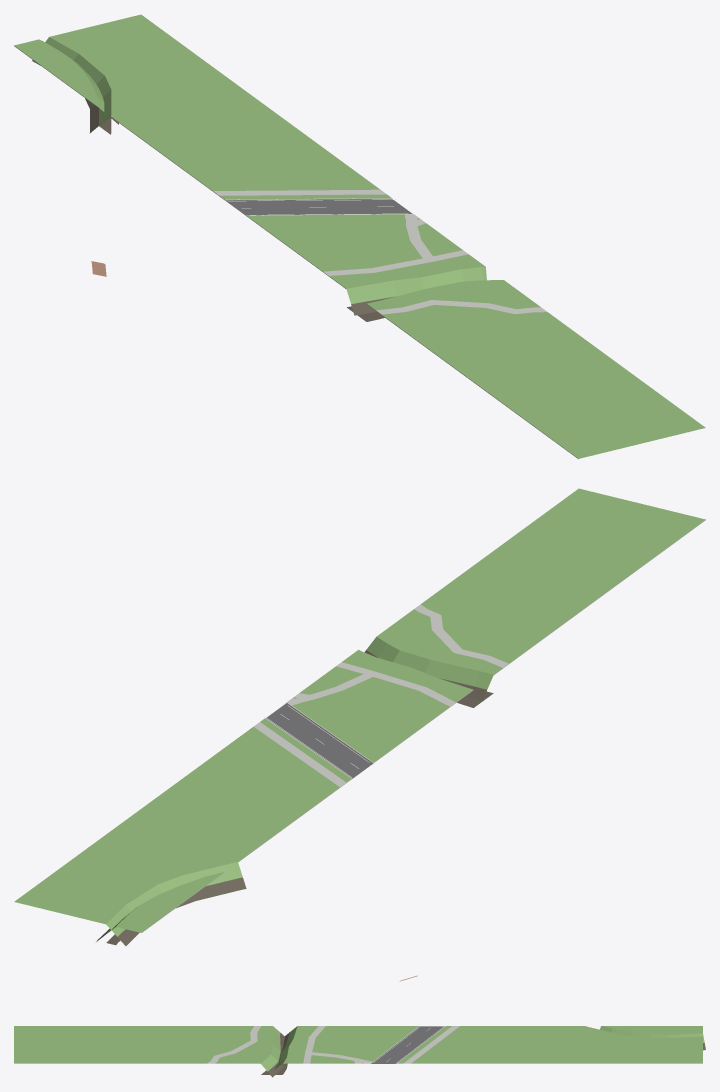
File: ground_3_12.glb
3 renders of one model, top to bottom at view 1: azimuth 30°, elevation 25°; view 2: azimuth 150°, elevation 25°; view 3: azimuth 270°, elevation 25°, orthographic. The views are drawn at different scales.
Parts seen in each view (by area): view 1: ground_3_12; view 2: ground_3_12; view 3: ground_3_12.
Boxes of the visible parts, x1,y1,x2,y2 form: ground_3_12: (14, 14, 705, 458); ground_3_12: (14, 488, 705, 945); ground_3_12: (14, 975, 705, 1077).
Size of the model in its own units: 64.44 by 3.62 by 201.
